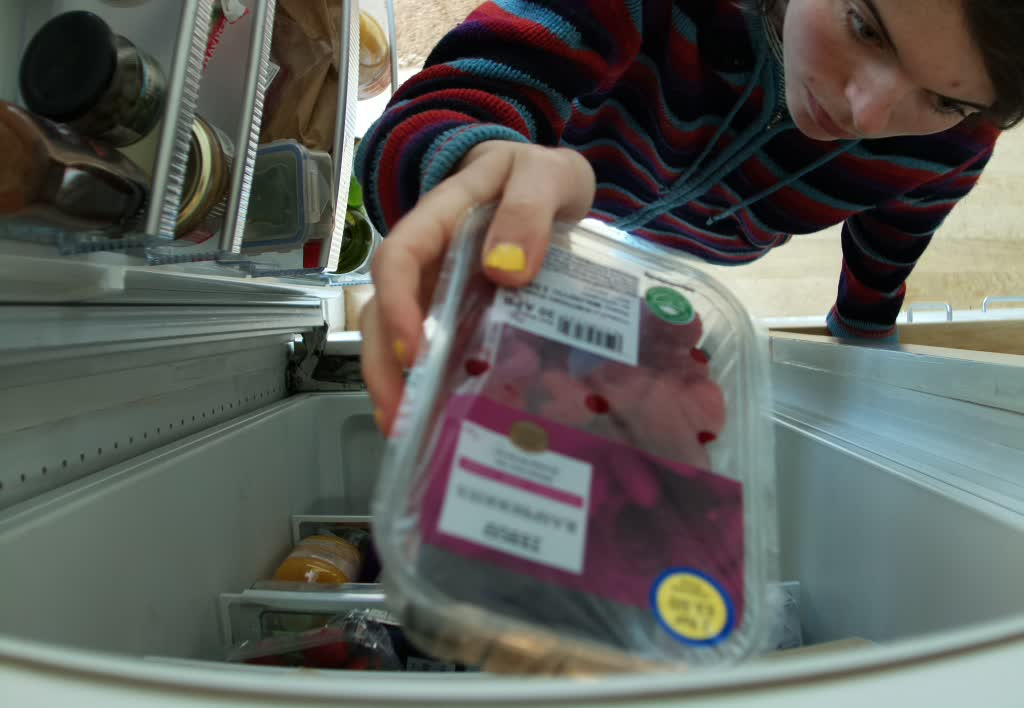soft-fruit: (375, 196, 777, 668)
